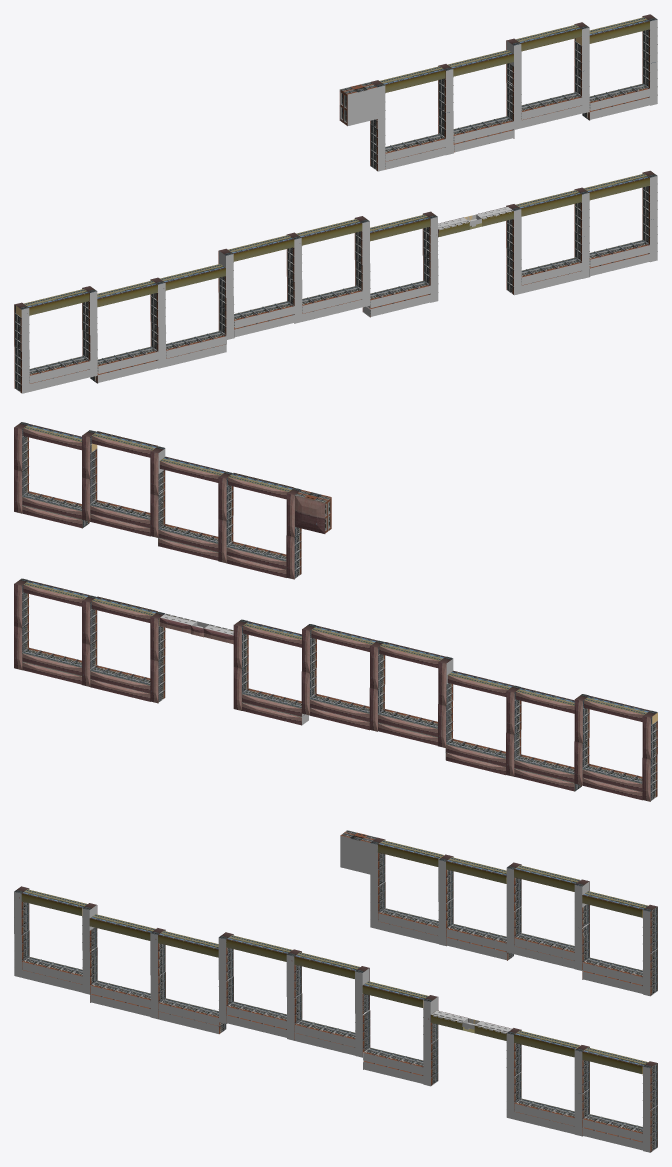
3 views of the same model, one above another, from view 1: azimuth 30°, elevation 25°; view 2: azimuth 150°, elevation 25°; view 3: azimuth 330°, elevation 25° (orthographic).
Parts seen in each view (by area): view 1: 1.bina zemin.062, Plane; view 2: 1.bina çatı.035; view 3: 1.bina zemin.062, Plane, sarı bina zemin.028, 1.bina zemin.013, 1.bina zemin.028, 1.bina zemin.055, 1.bina zemin.058, 1.bina zemin.034, sarı bina zemin.036, 1.bina zemin.050, sarı bina zemin.045, 1.bina zemin.017 (+26 smaller).
Part boxes in pixels (x1=…): 1.bina zemin.062: x1=347, y1=87, x2=377, y2=125; Plane: x1=438, y1=207, x2=513, y2=230; 1.bina çatı.035: x1=295, y1=495, x2=325, y2=533; 1.bina zemin.062: x1=340, y1=835, x2=370, y2=874; Plane: x1=431, y1=1010, x2=511, y2=1033; sarı bina zemin.028: x1=89, y1=918, x2=150, y2=940; 1.bina zemin.013: x1=514, y1=1104, x2=575, y2=1125; 1.bina zemin.028: x1=158, y1=1003, x2=219, y2=1025; 1.bina zemin.055: x1=446, y1=938, x2=507, y2=960; 1.bina zemin.058: x1=378, y1=913, x2=438, y2=935; 1.bina zemin.034: x1=22, y1=970, x2=82, y2=992; sarı bina zemin.036: x1=582, y1=895, x2=642, y2=917; 1.bina zemin.050: x1=514, y1=938, x2=575, y2=960; sarı bina zemin.045: x1=377, y1=844, x2=438, y2=866; 1.bina zemin.017: x1=363, y1=1061, x2=423, y2=1083.
Size of the model in its own units: 25243 by 9503 by 587.
